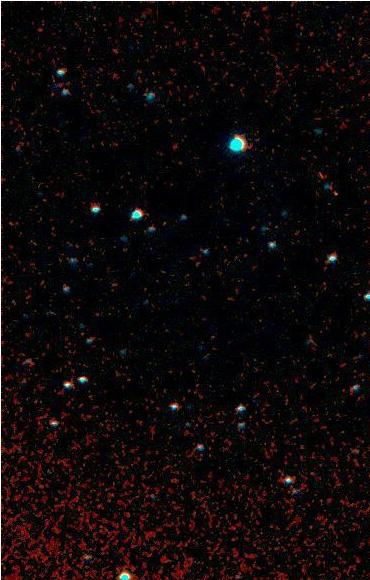star: (148, 206, 178, 236)
